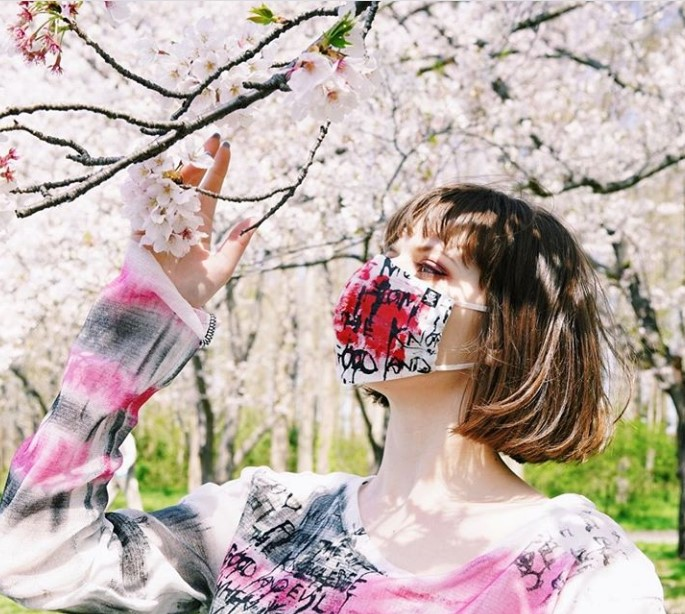face_with_mask: (330, 195, 540, 392)
